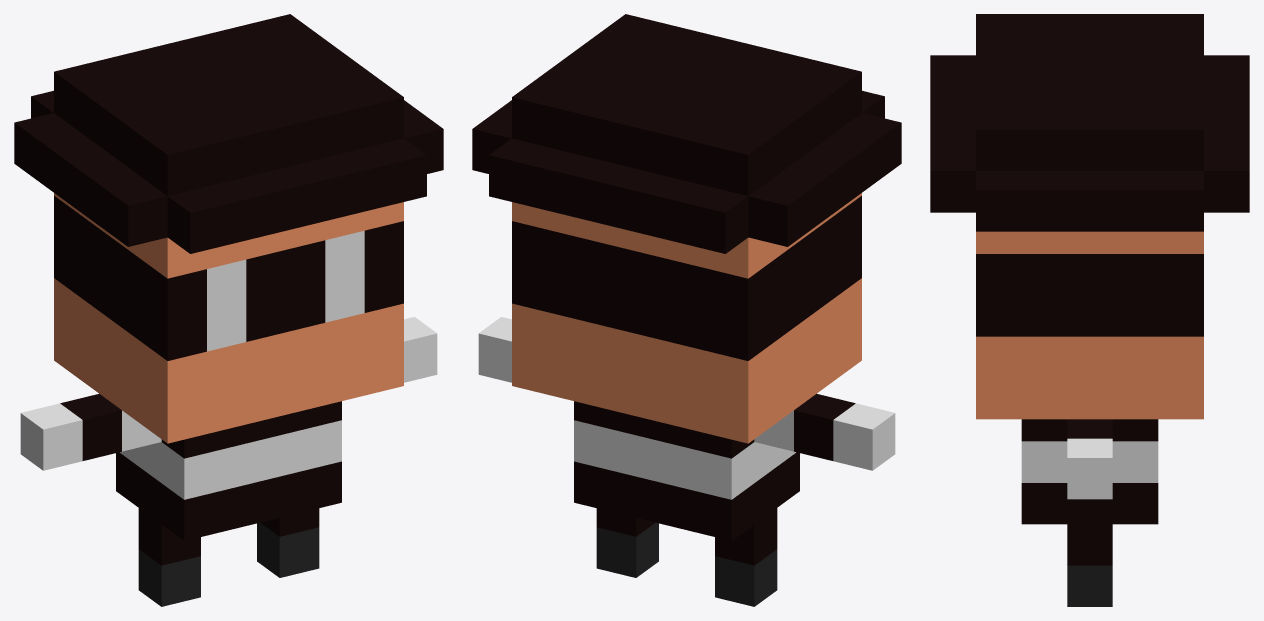
3 views of the same model, side by side, from view 1: azimuth 30°, elevation 25°; view 2: azimuth 150°, elevation 25°; view 3: azimuth 270°, elevation 25° (orthographic).
Visible parts, largest first — view 1: Object_0; view 2: Object_0; view 3: Object_0.
Boxes of the visible parts, x1,y1,x2,y2 form: Object_0: [14, 14, 443, 606]; Object_0: [472, 14, 901, 606]; Object_0: [930, 14, 1249, 606].
Size of the model in its own units: 1.33 by 1.6 by 0.9333.
1 material, 1 textured.
